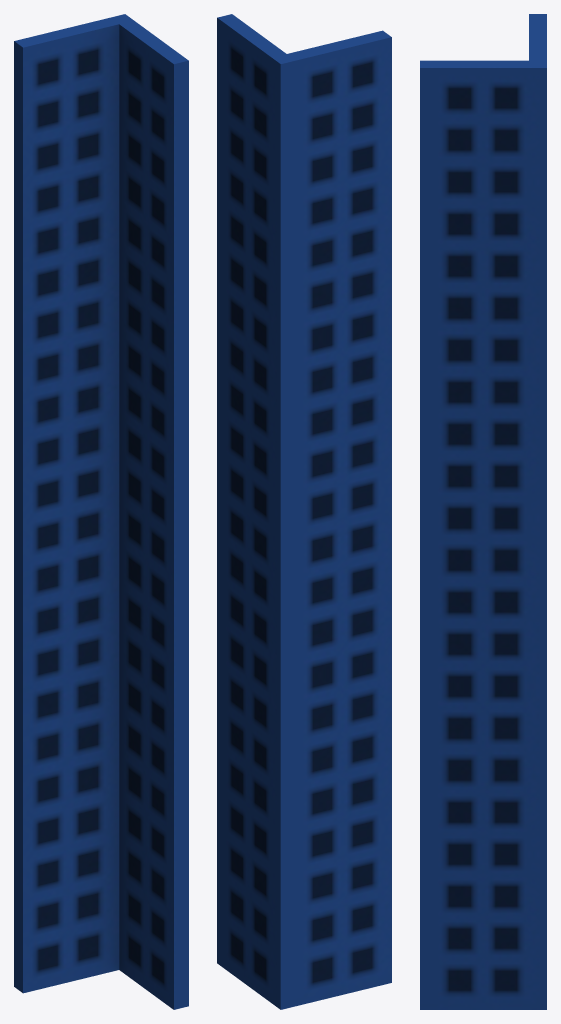
File: RailL.FBX
3 views of the same model, side by side, from view 1: azimuth 30°, elevation 25°; view 2: azimuth 210°, elevation 25°; view 3: azimuth 270°, elevation 25° (orthographic).
Parts seen in each view (by area): view 1: RailL; view 2: RailL; view 3: RailL.
Part boxes in pixels (x1=…): RailL: x1=14, y1=14, x2=188, y2=1009; RailL: x1=217, y1=14, x2=391, y2=1009; RailL: x1=420, y1=14, x2=546, y2=1009.
Size of the model in its own units: 0.0922 by 0.7502 by 0.0915.
Materials: 1 (1 with a texture image).
